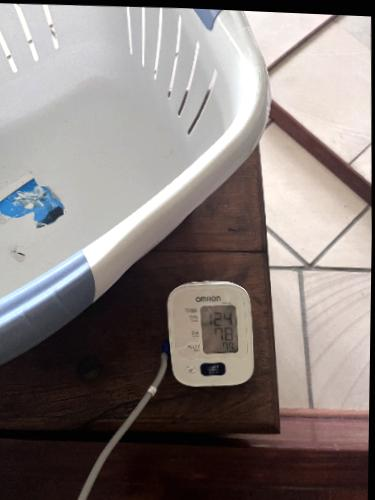bpm: (199, 305, 238, 355)
